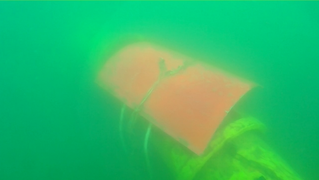leak: (95, 40, 259, 157)
pipe: (117, 103, 302, 180), (70, 15, 144, 85)
